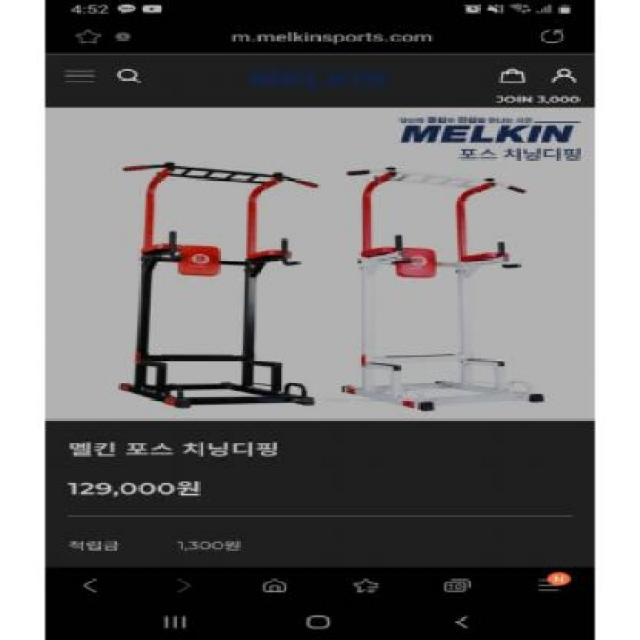chinning dipping: (120, 162, 320, 408)
